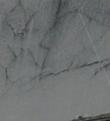fissura: (0, 0, 110, 86)
